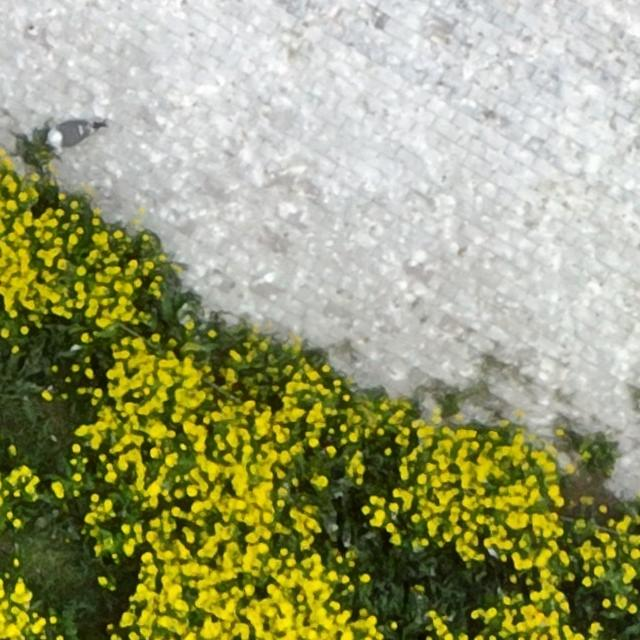umineko: (47, 122, 89, 145)
